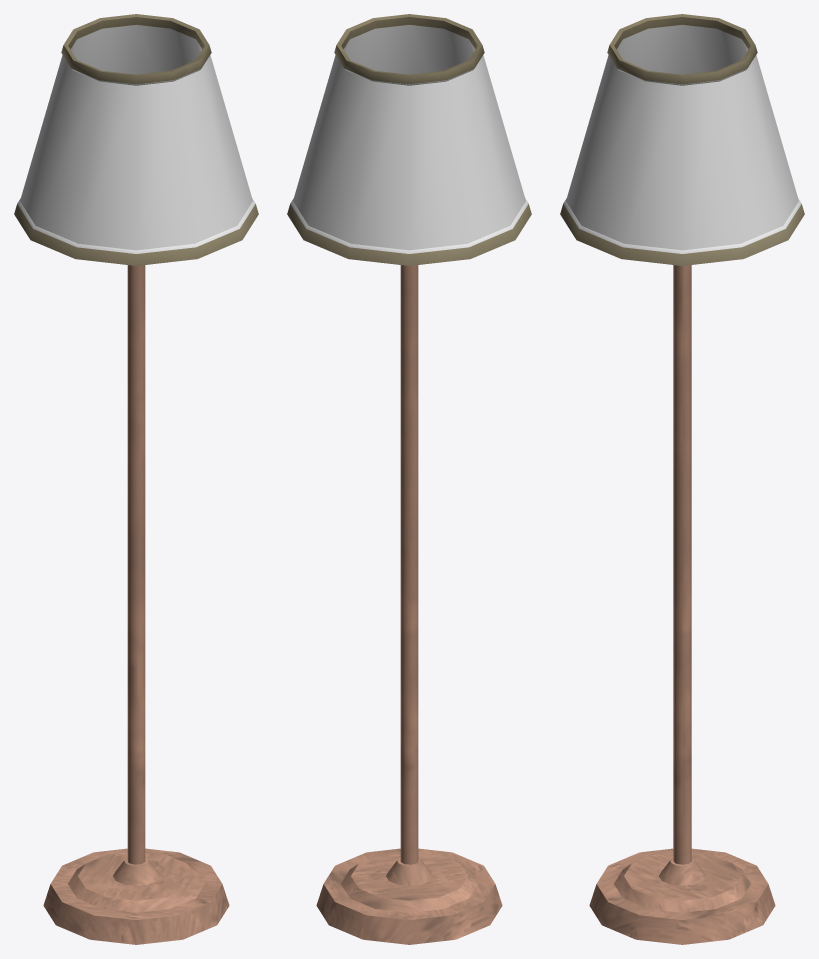
Rendered from Lamp_floor.fbx.
3 renders of one model, left to right at view 1: azimuth 30°, elevation 25°; view 2: azimuth 150°, elevation 25°; view 3: azimuth 270°, elevation 25°, orthographic.
Parts seen in each view (by area): view 1: Lamp_floor; view 2: Lamp_floor; view 3: Lamp_floor.
Boxes of the visible parts, x1,y1,x2,y2 form: Lamp_floor: [14, 14, 258, 944]; Lamp_floor: [287, 14, 531, 944]; Lamp_floor: [560, 14, 804, 944].
Bounding box in the file's own units: 159 × 618 × 159.
